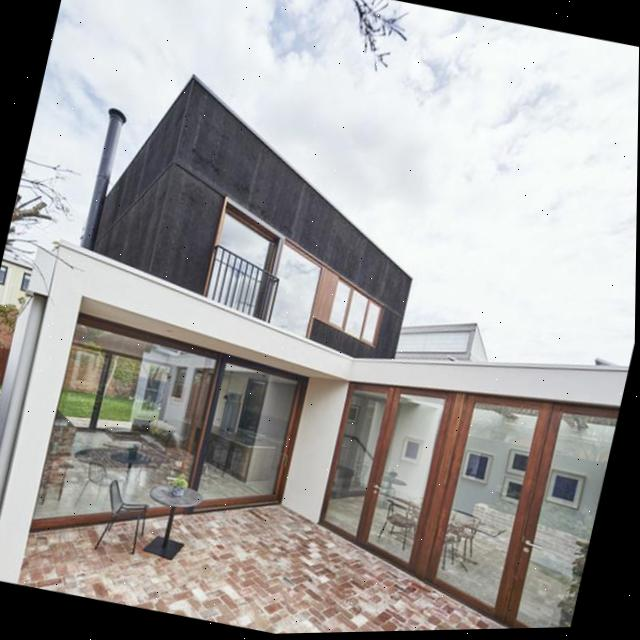building: (0, 40, 639, 640)
